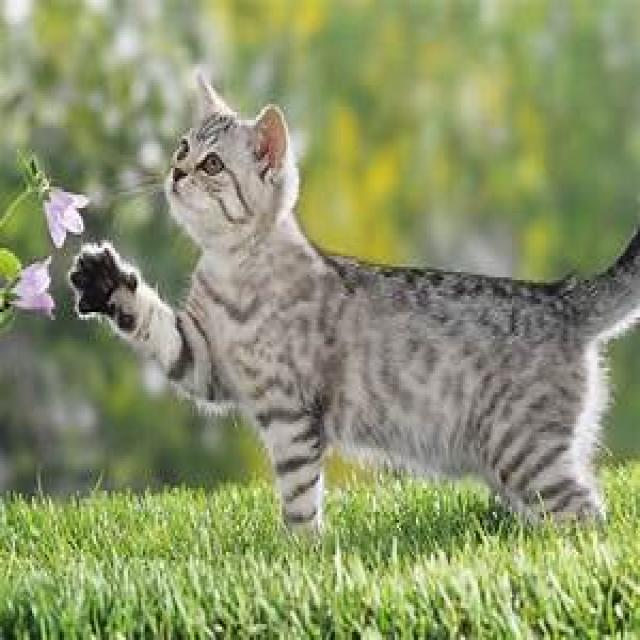cat: (65, 17, 600, 633)
